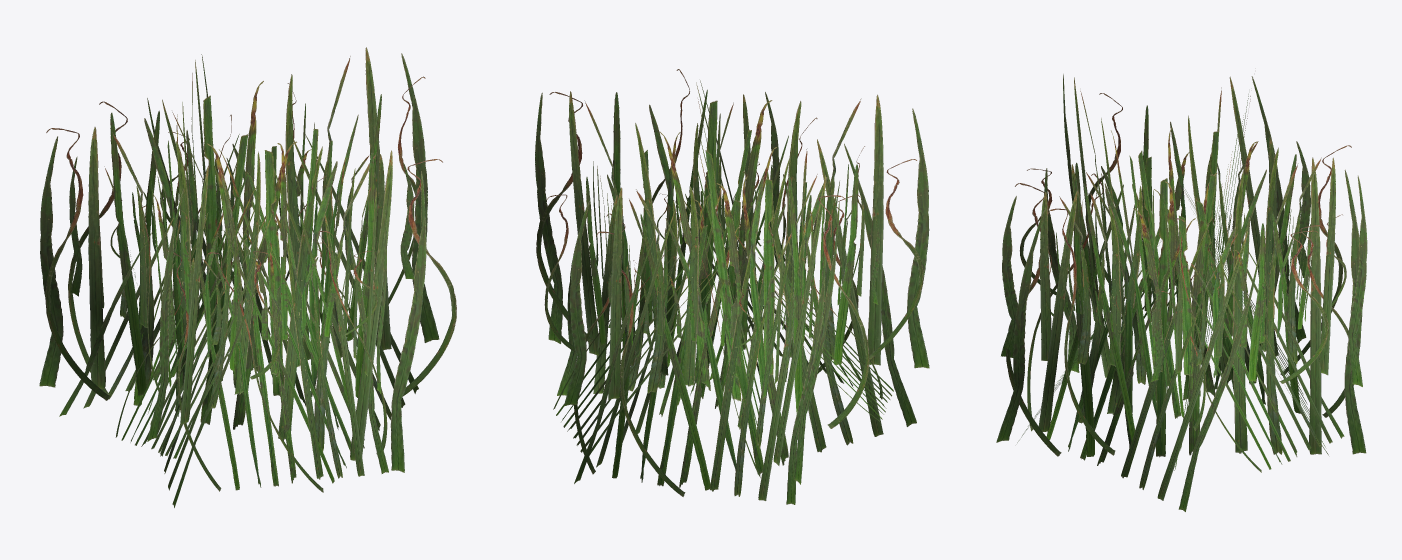
The model's file is grass1.obj.
3 renders of one model, left to right at view 1: azimuth 30°, elevation 25°; view 2: azimuth 150°, elevation 25°; view 3: azimuth 270°, elevation 25°, orthographic. The views are drawn at different scales.
Parts seen in each view (by area): view 1: no texture; view 2: no texture; view 3: no texture.
Boxes of the visible parts, box(x1,y1,x2,y2) form: no texture: box(39, 47, 456, 507); no texture: box(535, 69, 929, 504); no texture: box(996, 74, 1367, 511).
Size of what is drawn, in the model's own units: 157 by 144 by 148.
Materials: 1 (1 with a texture image).
